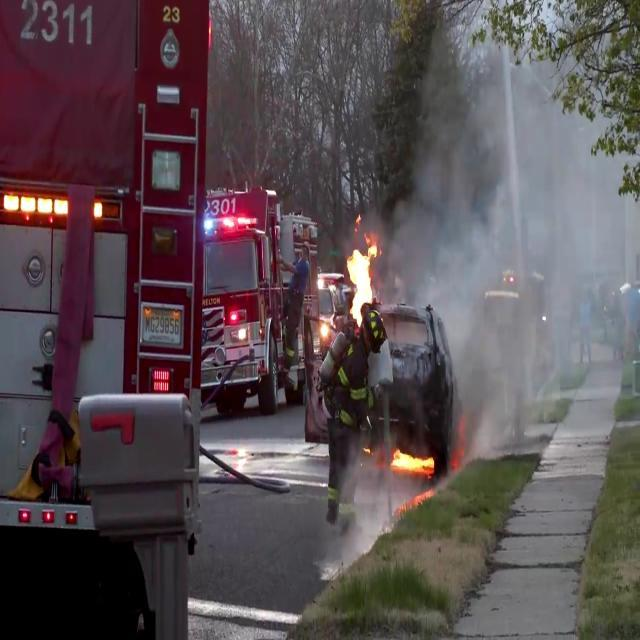Fire: (344, 230, 382, 326), (388, 441, 434, 480)
Smoke: (391, 22, 640, 450), (325, 433, 393, 573)
